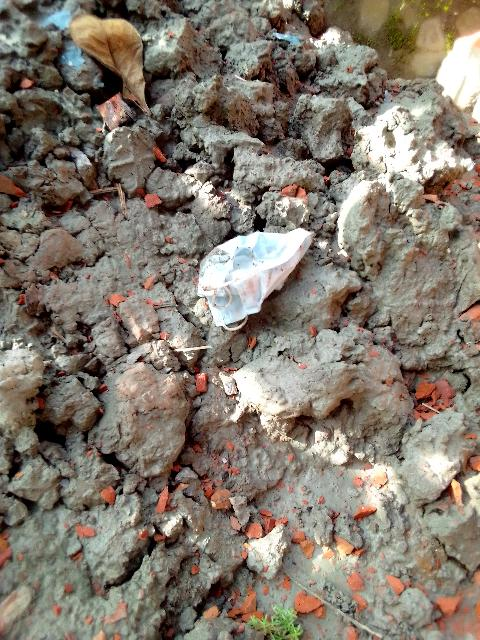mask: (195, 221, 312, 344)
